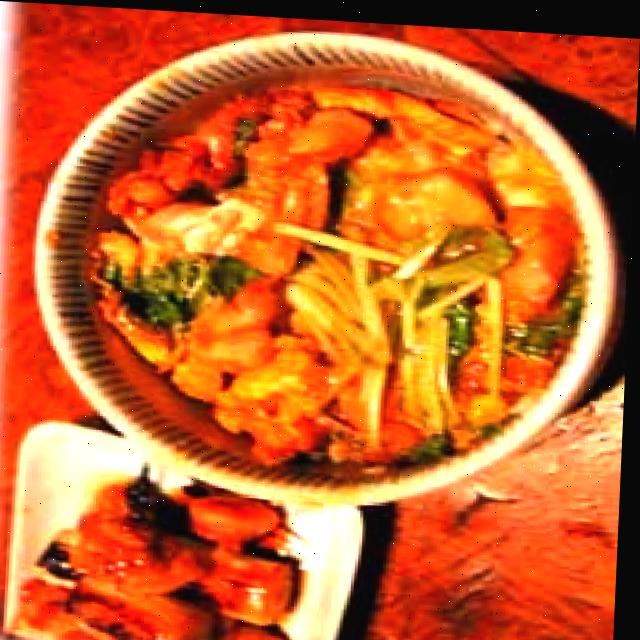米饭主食: (8, 2, 640, 514)
